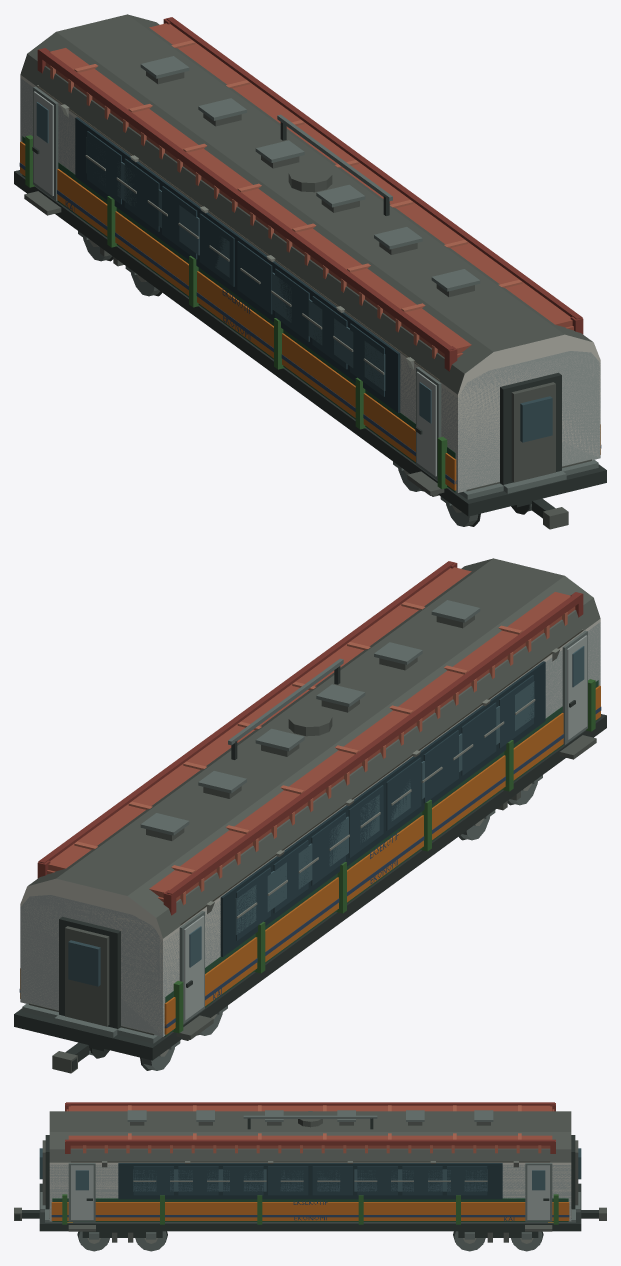
File: riverside-carriage-kit.glb
3 renders of one model, top to bottom at view 1: azimuth 30°, elevation 25°; view 2: azimuth 150°, elevation 25°; view 3: azimuth 270°, elevation 25°, orthographic. The views are drawn at different scales.
Visible parts, largest first — view 1: GEO-carriage-economy-body, GEO-carriage-executive-body, GEO-carriage-container-body, GEO-executive-windows, GEO-executive-underframe, GEO-carriage-harvest-body, GEO-economy-windows, GEO-carriage-tank-body, GEO-carriage-ballast-body, GEO-executive-coupler-1; view 2: GEO-carriage-economy-body, GEO-carriage-executive-body, GEO-carriage-container-body, GEO-executive-windows, GEO-executive-underframe, GEO-carriage-harvest-body, GEO-economy-windows, GEO-carriage-tank-body, GEO-carriage-ballast-body, GEO-executive-coupler--1; view 3: GEO-carriage-economy-body, GEO-carriage-executive-body, GEO-carriage-container-body, GEO-executive-windows, GEO-executive-underframe, GEO-economy-windows, GEO-carriage-harvest-body, GEO-carriage-ballast-body, GEO-carriage-tank-body, GEO-executive-bogie--1, GEO-executive-bogie-1, GEO-PIVOT-executive-wheel--1-0.79-1 (+5 smaller).
Part boxes in pixels (x1,y1,x2,y2): GEO-carriage-economy-body: [20, 14, 600, 492]; GEO-carriage-executive-body: [19, 78, 601, 495]; GEO-carriage-container-body: [37, 17, 583, 371]; GEO-executive-windows: [36, 102, 431, 423]; GEO-executive-underframe: [14, 170, 606, 516]; GEO-carriage-harvest-body: [22, 135, 456, 492]; GEO-economy-windows: [86, 137, 385, 390]; GEO-carriage-tank-body: [277, 114, 591, 491]; GEO-carriage-ballast-body: [37, 85, 440, 380]; GEO-executive-coupler-1: [532, 498, 568, 529]; GEO-carriage-economy-body: [20, 558, 600, 1036]; GEO-carriage-executive-body: [19, 622, 601, 1039]; GEO-carriage-container-body: [37, 561, 583, 915]; GEO-executive-windows: [189, 646, 584, 967]; GEO-executive-underframe: [14, 714, 606, 1060]; GEO-carriage-harvest-body: [164, 679, 598, 1036]; GEO-economy-windows: [235, 681, 534, 934]; GEO-carriage-tank-body: [29, 658, 343, 1035]; GEO-carriage-ballast-body: [180, 629, 583, 924]; GEO-executive-coupler--1: [52, 1042, 88, 1073]; GEO-carriage-economy-body: [49, 1110, 571, 1220]; GEO-carriage-executive-body: [39, 1135, 581, 1231]; GEO-carriage-container-body: [65, 1102, 555, 1222]; GEO-executive-windows: [75, 1166, 545, 1195]; GEO-executive-underframe: [39, 1183, 581, 1231]; GEO-economy-windows: [133, 1169, 487, 1191]; GEO-carriage-harvest-body: [52, 1194, 568, 1224]; GEO-carriage-ballast-body: [70, 1161, 550, 1167]; GEO-carriage-tank-body: [49, 1111, 571, 1218]; GEO-executive-bogie--1: [458, 1231, 538, 1242]; GEO-executive-bogie-1: [82, 1231, 162, 1242]; GEO-PIVOT-executive-wheel--1-0.79-1: [453, 1231, 485, 1251].
Size of the model in its own units: 3.17 by 4.08 by 16.42.
